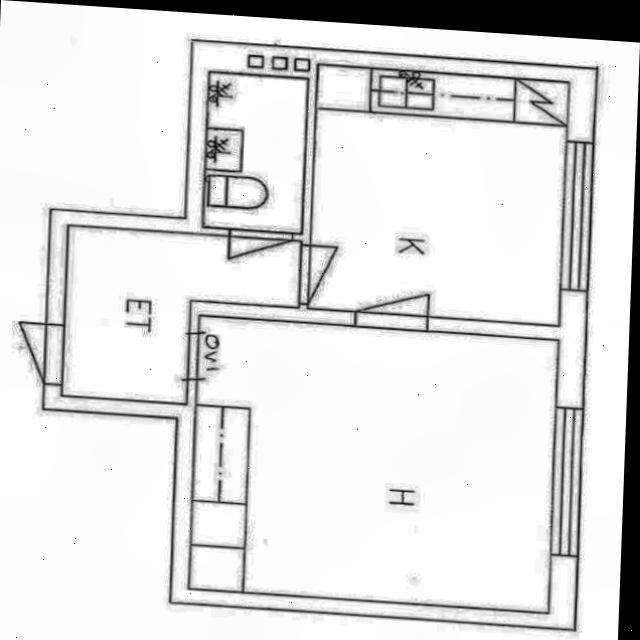room: (180, 316, 564, 614), (307, 64, 567, 324), (54, 225, 302, 413)
